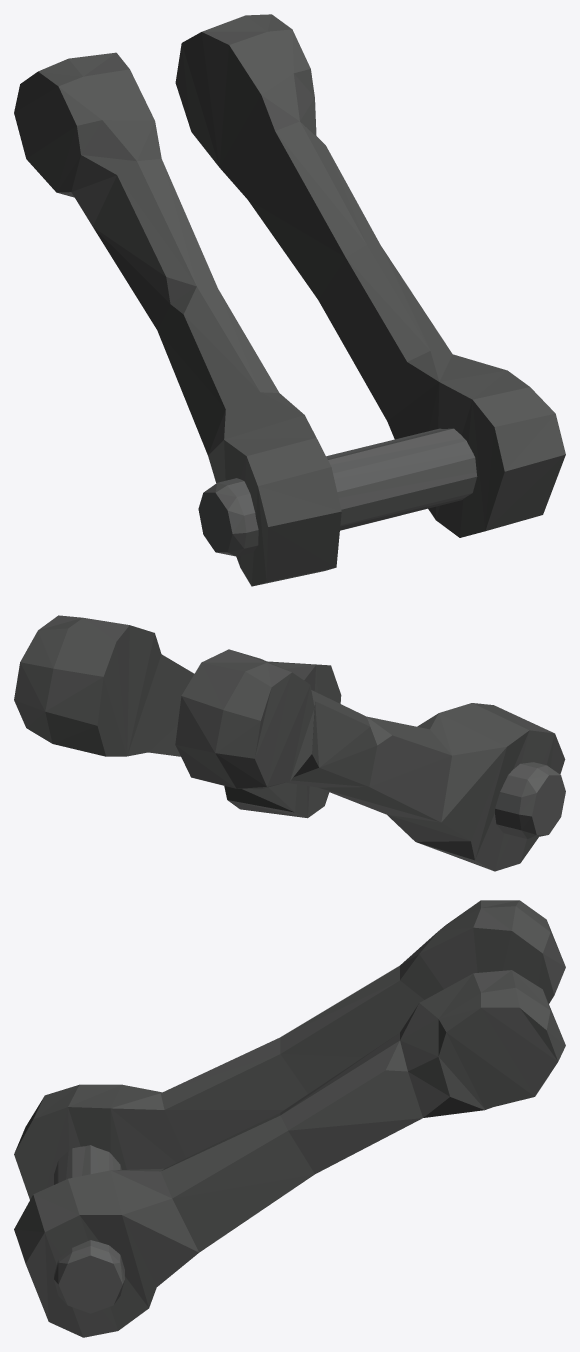
File: Board_Stand_003.fbx
3 views of the same model, one above another, from view 1: azimuth 30°, elevation 25°; view 2: azimuth 150°, elevation 25°; view 3: azimuth 270°, elevation 25° (orthographic). The views are drawn at different scales.
Visible parts, largest first — view 1: Board_Stand_003; view 2: Board_Stand_003; view 3: Board_Stand_003.
Part boxes in pixels (x1,y1,x2,y2): Board_Stand_003: (14,14,565,586); Board_Stand_003: (14,615,565,871); Board_Stand_003: (14,900,565,1337).
Size of the model in its own units: 0.1818 by 0.1836 by 0.2793.
